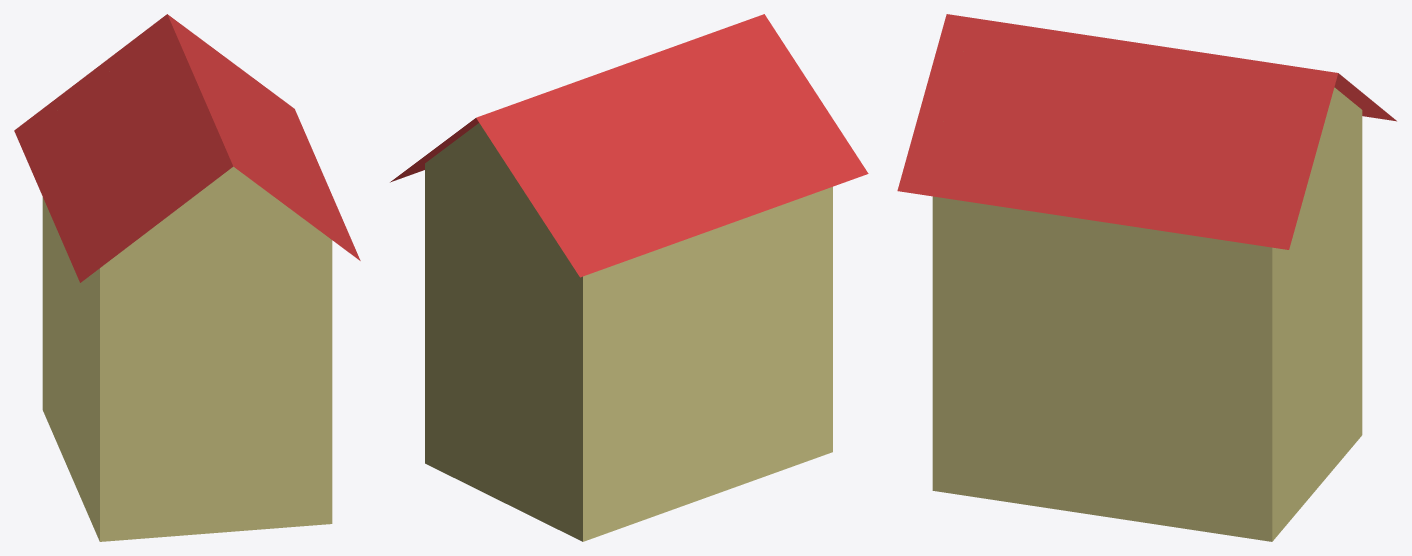
3 views of the same model, side by side, from view 1: azimuth 30°, elevation 25°; view 2: azimuth 150°, elevation 25°; view 3: azimuth 270°, elevation 25° (orthographic). The views are drawn at different scales.
Bounding box in the file's own units: 16.04 × 18.07 × 16.96.
